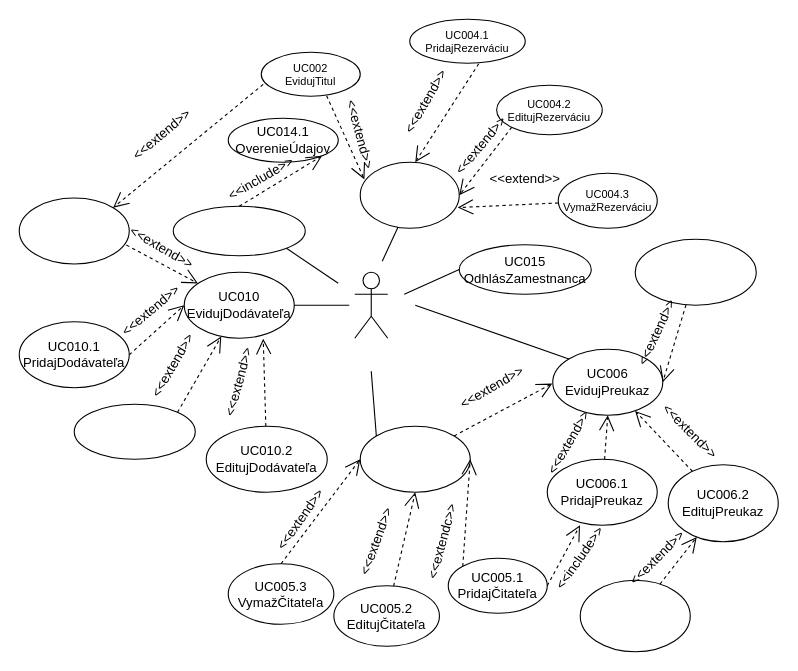
Some shapes in this 798 by 671 pixel diagram are drawn without their labels. The box of each missing label's shape, as (x1, y1, x2, y2) in pixels:
UC004 EvidujRezerváciu: (359, 161, 459, 228)
UC005 EvidujČitateľa: (359, 425, 470, 492)
UC006.3 VymažPreukaz: (634, 238, 756, 305)
UC006.4 PredĺžiťPlatnosť: (579, 579, 690, 652)
UC010.3 VymažDodávateľa: (73, 403, 195, 459)
UC010.4 PošliObjednávku: (18, 197, 129, 264)
UC014 PrihlásZamestnanca: (172, 205, 305, 256)
Zamestnanec: (354, 271, 388, 338)
